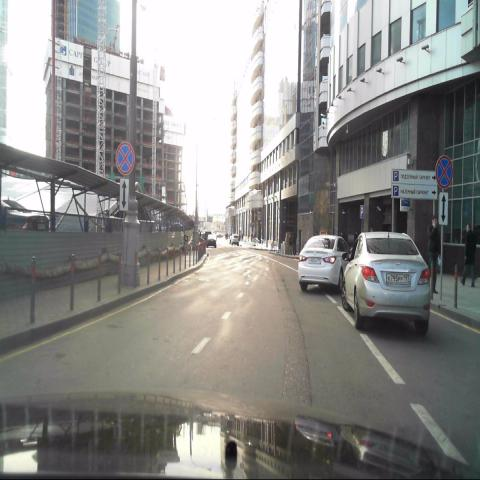3_27: (434, 154, 453, 190)
8_2_4: (438, 191, 448, 224), (120, 177, 130, 209)
